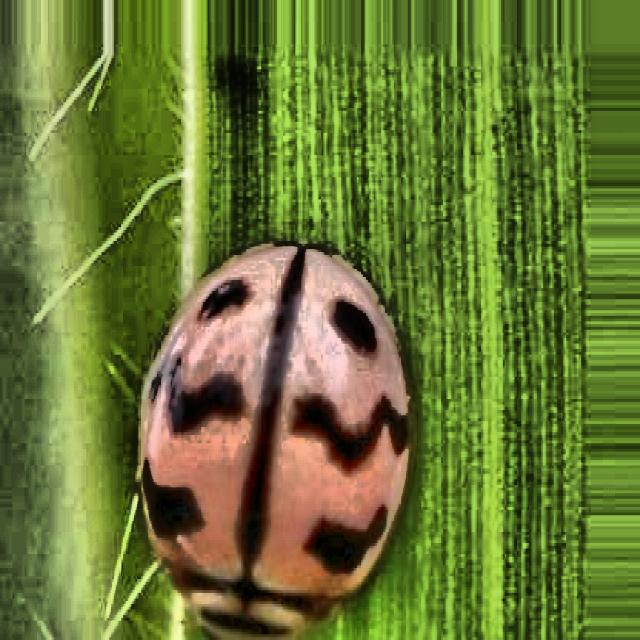Asian-Lady-beetle: (111, 134, 430, 640)
